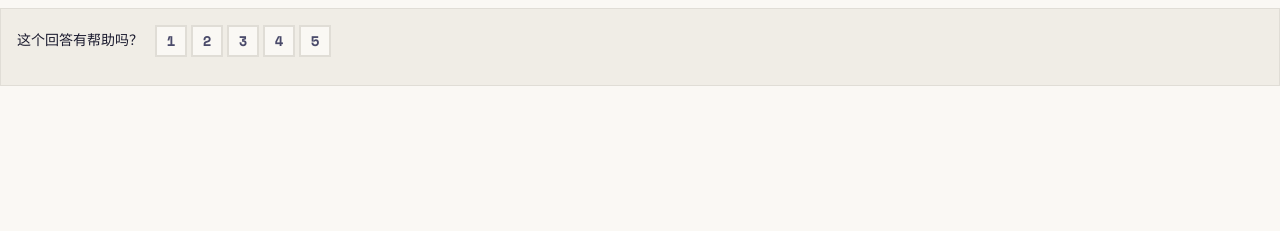
Test case: FeedbackRating › shows comment textarea after selecting rating
Click the button "4" at [279, 41], box [263,25,295,57]
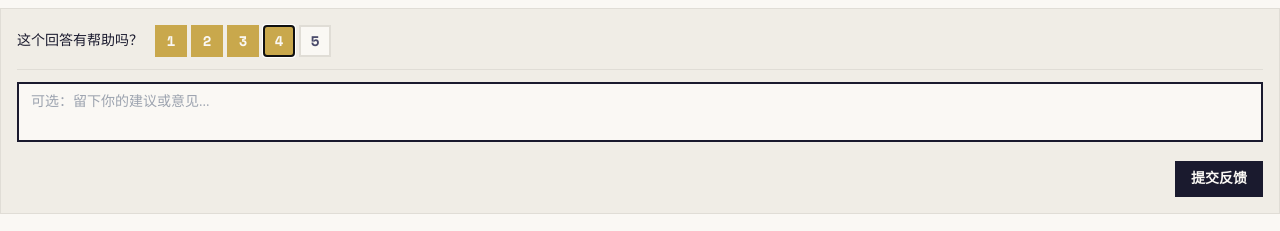
Result: the text box with placeholder "可选：留下你的建议或意见..." is shown at [17,82,1263,142]
Result: the button "提交反馈" is shown at [1175,161,1263,197]
